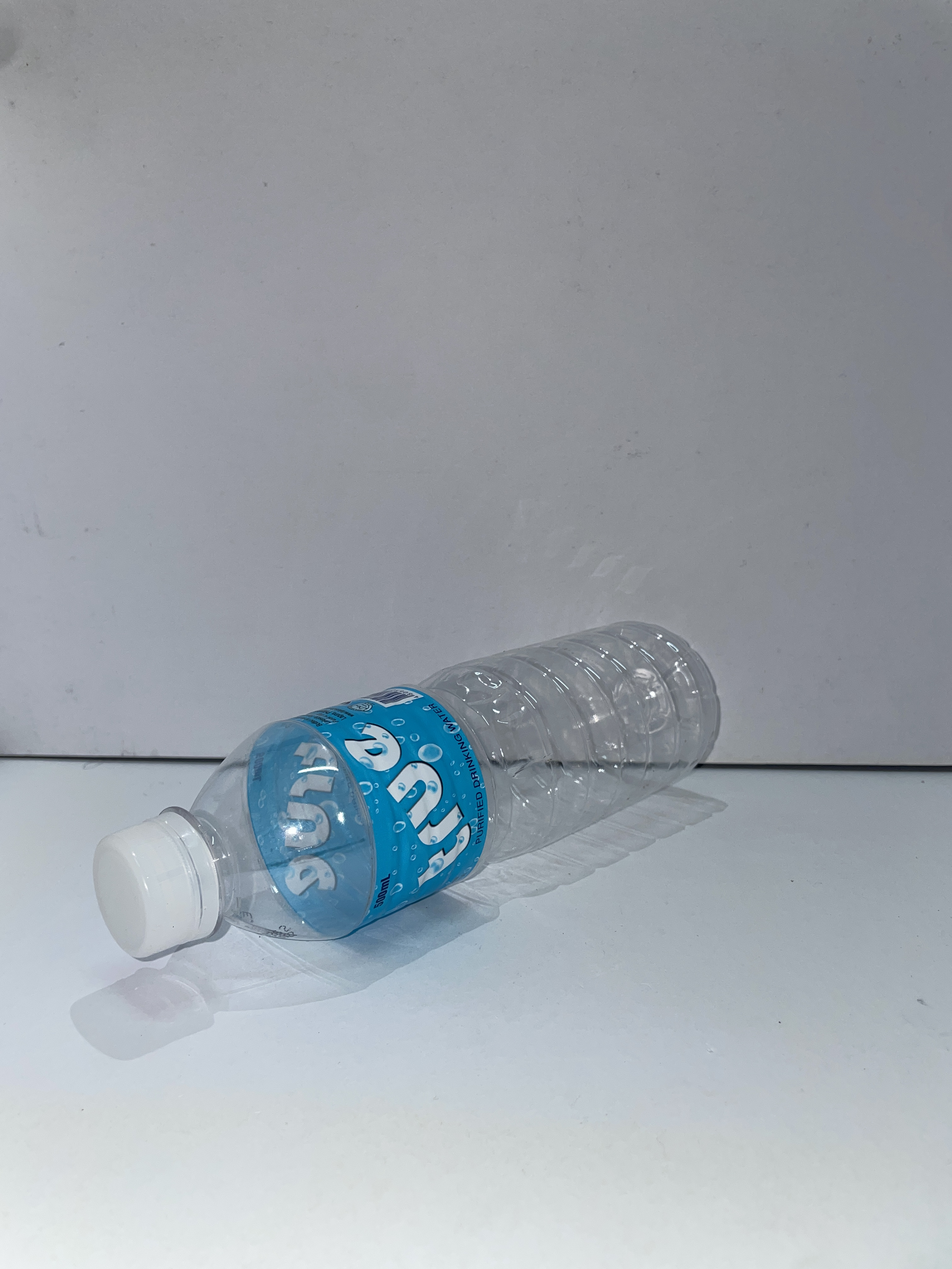True 500ml: (93, 623, 719, 959), (421, 622, 719, 865)
